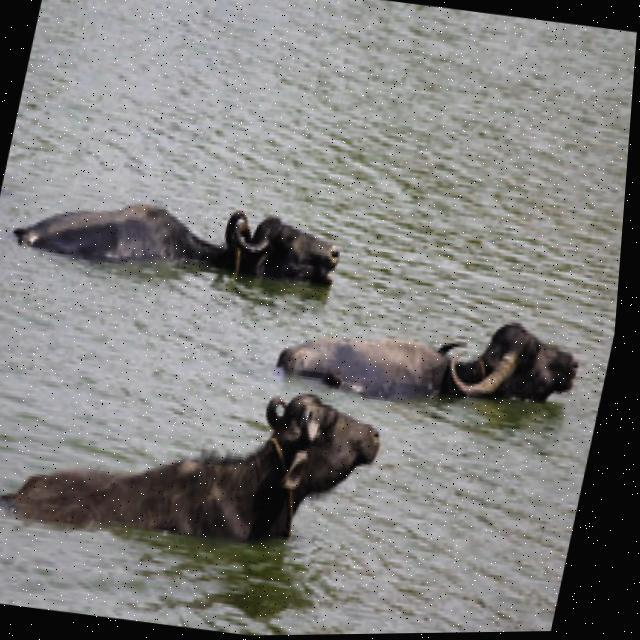Buffalo: (0, 351, 400, 568)
